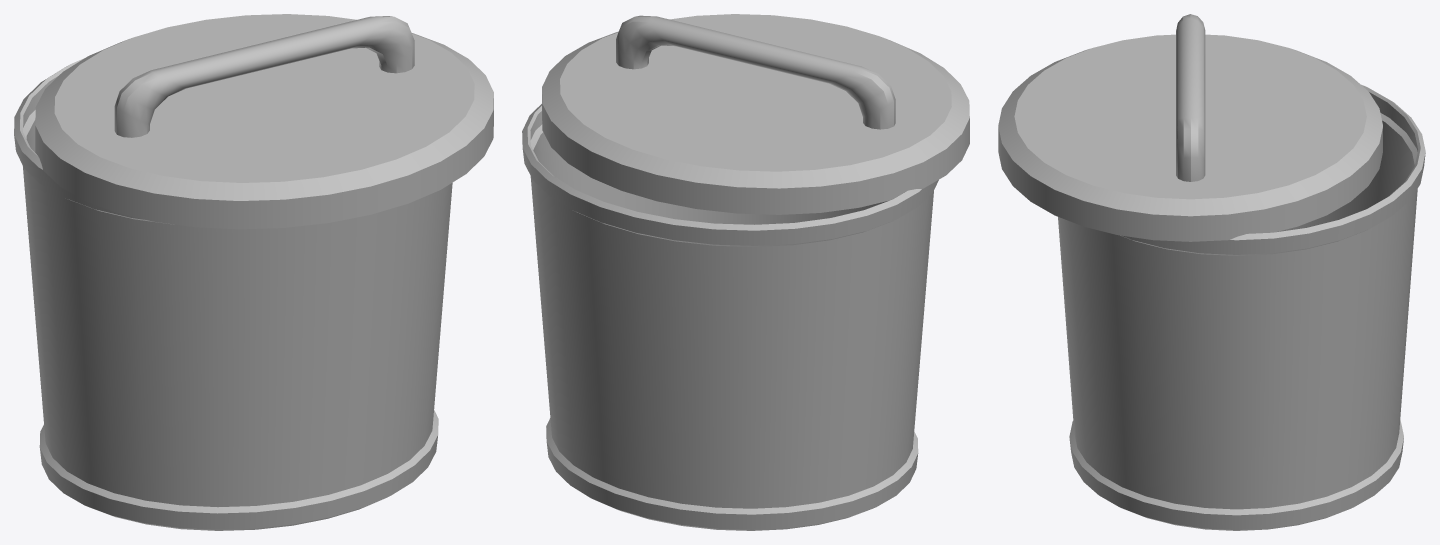
Rendered from Props_Garbage_03.fbx.
3 views of the same model, side by side, from view 1: azimuth 30°, elevation 25°; view 2: azimuth 150°, elevation 25°; view 3: azimuth 270°, elevation 25° (orthographic). The views are drawn at different scales.
Visible parts, largest first — view 1: Props_Garbage_03; view 2: Props_Garbage_03; view 3: Props_Garbage_03.
Part boxes in pixels (box(x1,y1,x2,y2)): Props_Garbage_03: box(14, 14, 493, 530); Props_Garbage_03: box(522, 14, 969, 530); Props_Garbage_03: box(998, 14, 1425, 530).
Bounding box in the file's own units: 100 × 100 × 100.
